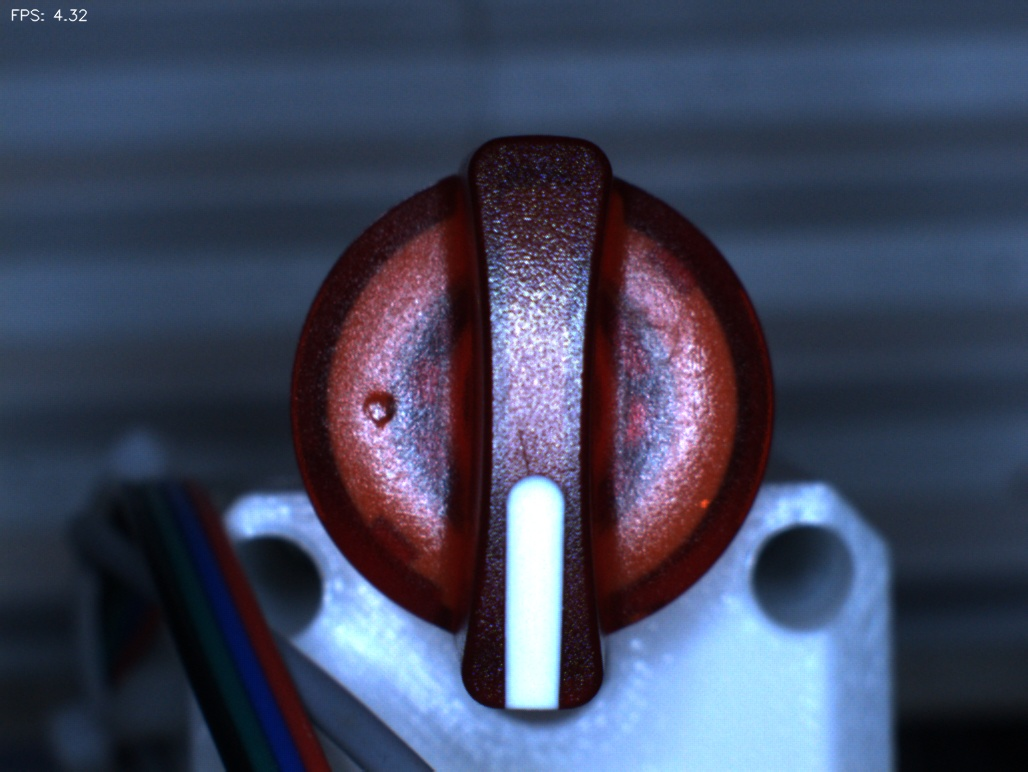Choc: (340, 361, 432, 453)
